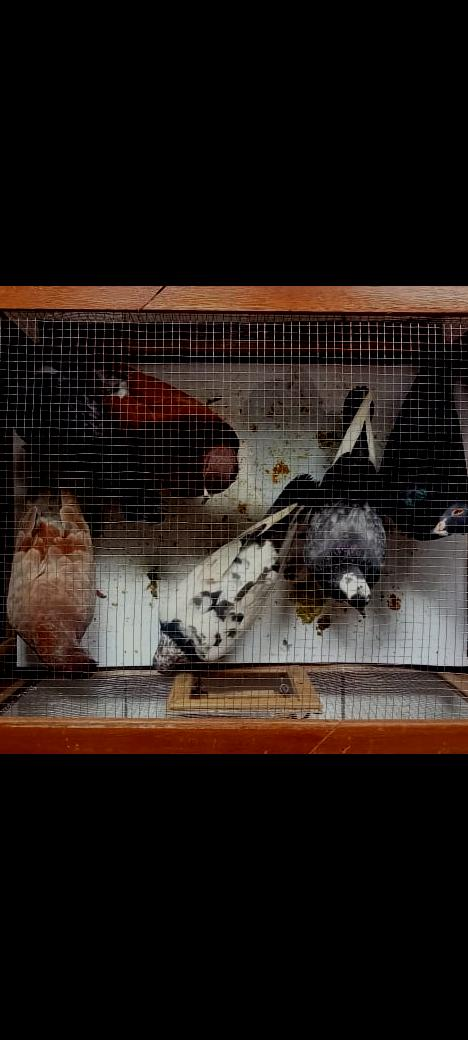Merpati: (40, 320, 240, 507), (150, 475, 319, 675), (0, 370, 165, 525), (4, 446, 98, 680), (301, 384, 386, 618), (374, 357, 468, 540)
